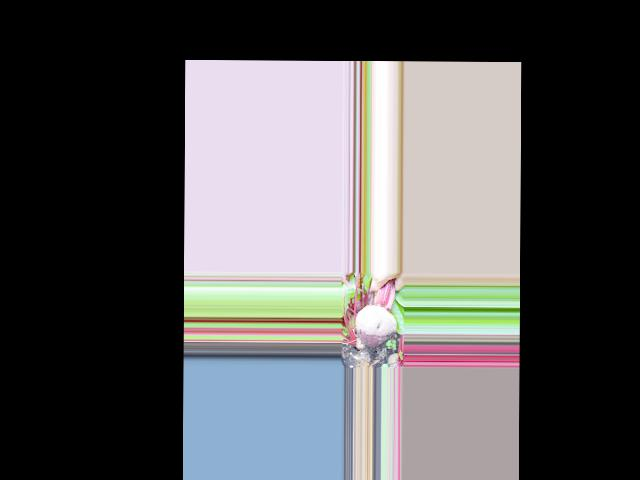beet: (354, 278, 396, 368)
